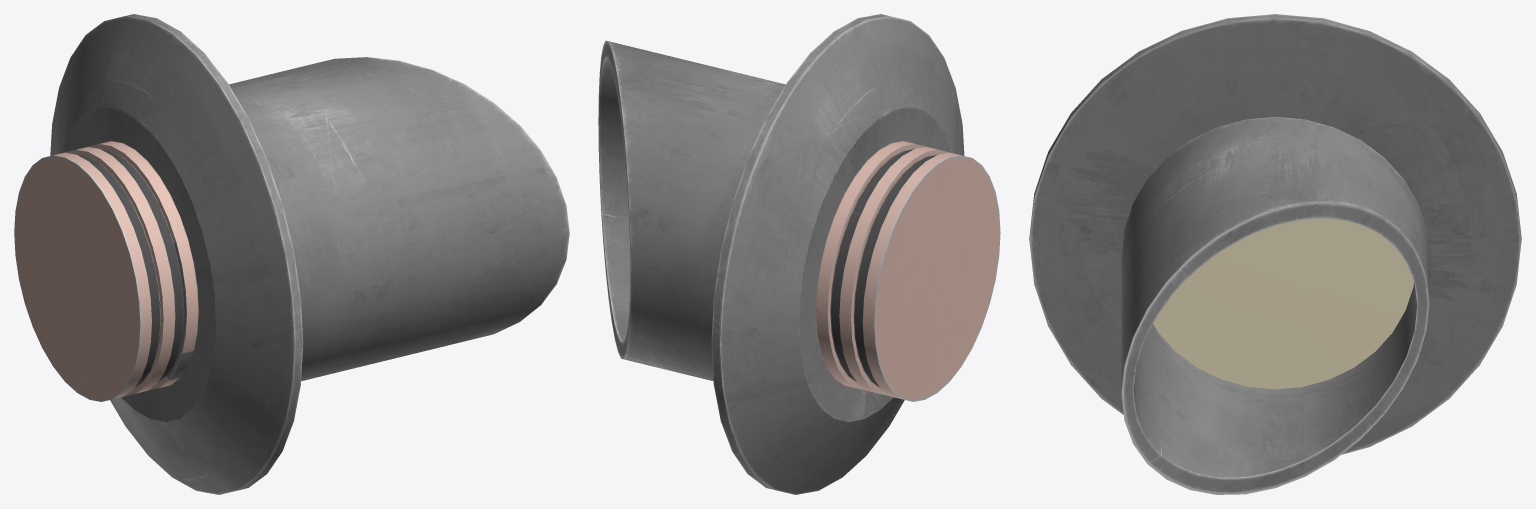
The model's file is guard_7_c_c.glb.
3 views of the same model, side by side, from view 1: azimuth 30°, elevation 25°; view 2: azimuth 150°, elevation 25°; view 3: azimuth 270°, elevation 25° (orthographic).
Visible parts, largest first — view 1: guard_7_c_c_lod0; view 2: guard_7_c_c_lod0; view 3: guard_7_c_c_lod0.
Boxes of the visible parts, <box> form: guard_7_c_c_lod0: <box>14,14,569,494</box>; guard_7_c_c_lod0: <box>598,14,1000,494</box>; guard_7_c_c_lod0: <box>1029,14,1521,494</box>.
Size of what is drawn, in the model's own units: 0.0476 by 0.0485 by 0.0485.
1 material, 1 textured.
